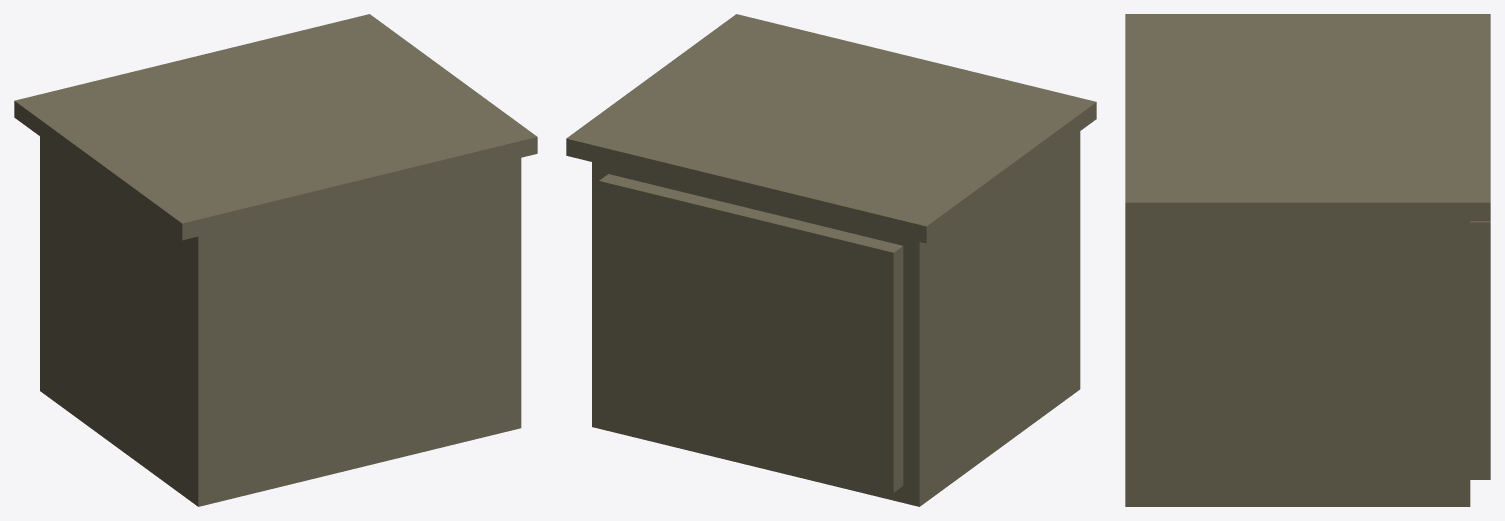
File: endTable.fbx
3 renders of one model, left to right at view 1: azimuth 30°, elevation 25°; view 2: azimuth 150°, elevation 25°; view 3: azimuth 270°, elevation 25°, orthographic. The views are drawn at different scales.
Visible parts, largest first — view 1: block_default_9, block_default_11; view 2: block_default_10, block_default_11, block_default_9; view 3: block_default_9, block_default_11, block_default_10.
Part boxes in pixels (x1,y1,x2,y2): block_default_9: [40, 136, 521, 506]; block_default_11: [14, 14, 537, 240]; block_default_10: [599, 174, 903, 492]; block_default_11: [566, 14, 1096, 243]; block_default_9: [592, 131, 1080, 506]; block_default_9: [1125, 221, 1470, 506]; block_default_11: [1125, 14, 1490, 221]; block_default_10: [1470, 221, 1490, 479].
Size of the model in its own units: 22 by 17 by 18.
